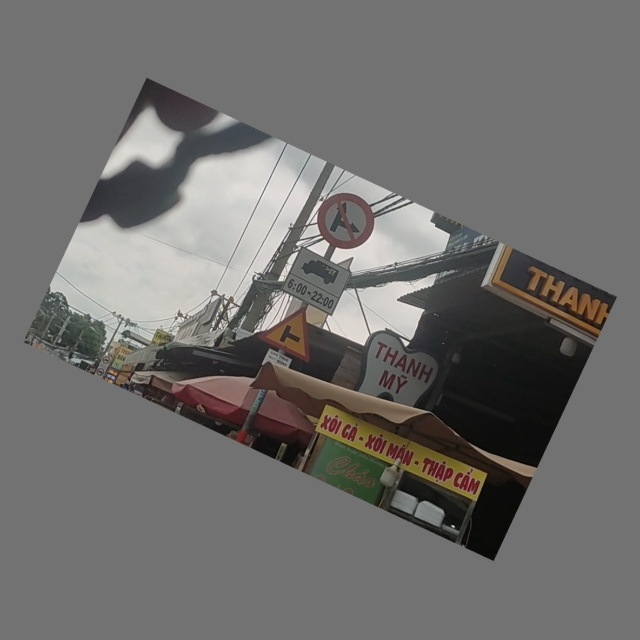P.139: (308, 184, 383, 260)
S.505a*Xe tai: (281, 246, 353, 314)
W.205b: (254, 295, 334, 366)
